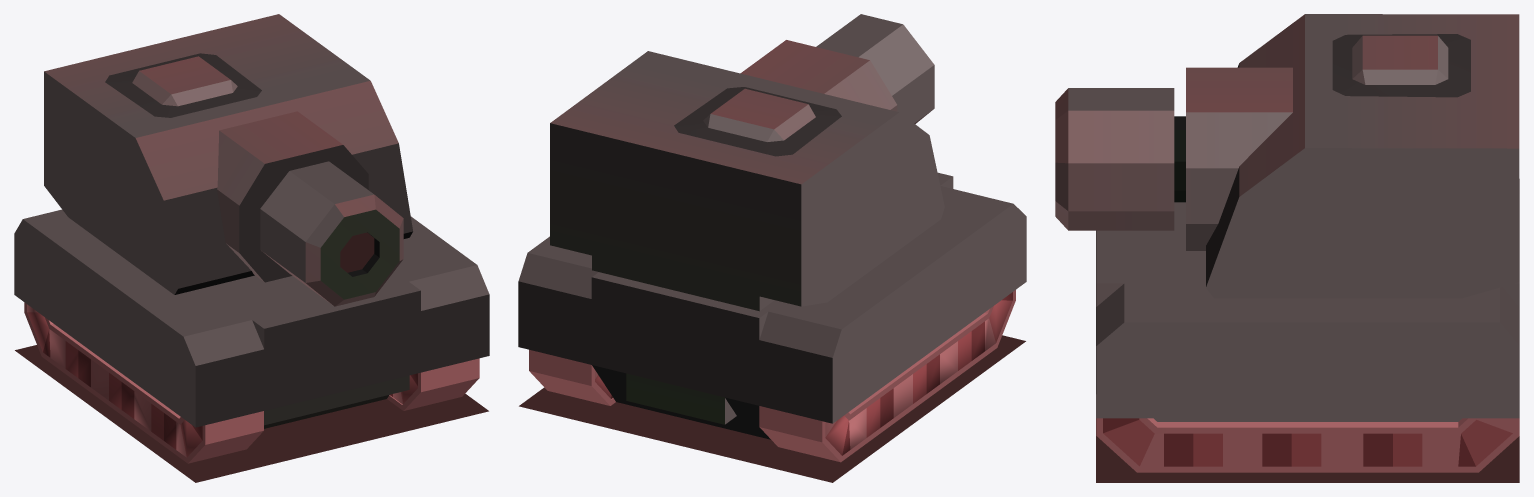
Rendered from TankMesh.NoireEclipse.glb.
The picture shows the model from 3 angles, left to right: view 1: azimuth 30°, elevation 25°; view 2: azimuth 150°, elevation 25°; view 3: azimuth 270°, elevation 25°; orthographic projection. The views are drawn at different scales.
Parts seen in each view (by area): view 1: TankMesh.NoireEclipse; view 2: TankMesh.NoireEclipse; view 3: TankMesh.NoireEclipse.
Part boxes in pixels (x1,y1,x2,y2): TankMesh.NoireEclipse: (14,14,489,482); TankMesh.NoireEclipse: (518,14,1026,482); TankMesh.NoireEclipse: (1055,14,1519,482).
Size of the model in its own units: 1.5 by 1.38 by 1.76.
1 material, 1 textured.
